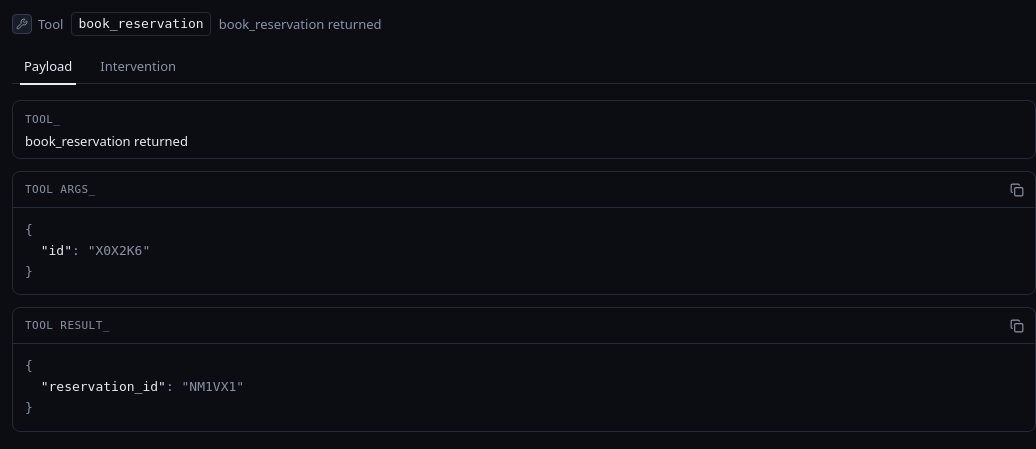
Scenario: StepInspector error handling › still reports "never intervened on" when the server really answers null
What coordinates should you click on to do the following:
click the tab "Intervention"
I would click on:
 (138, 66)
Its box is [88,48,188,84].
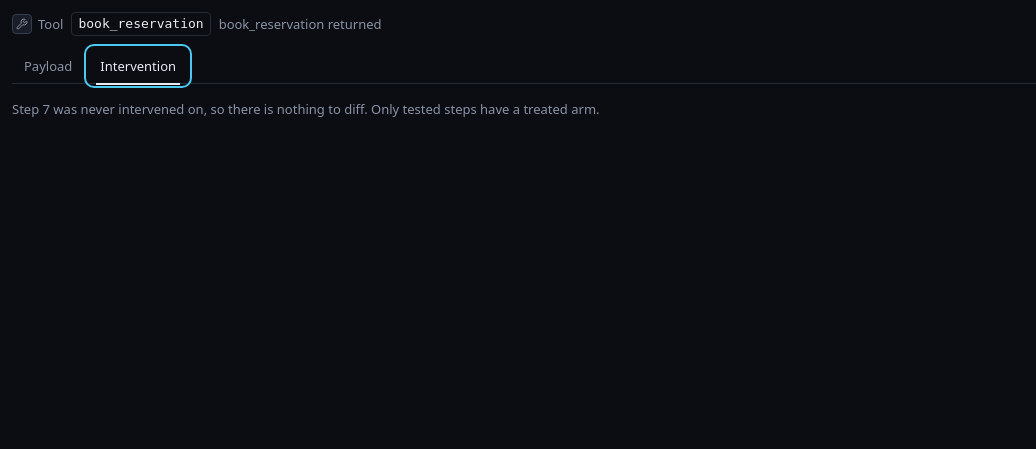
expect the text "was never intervened on" is shown: met, box [50,100,600,118]
